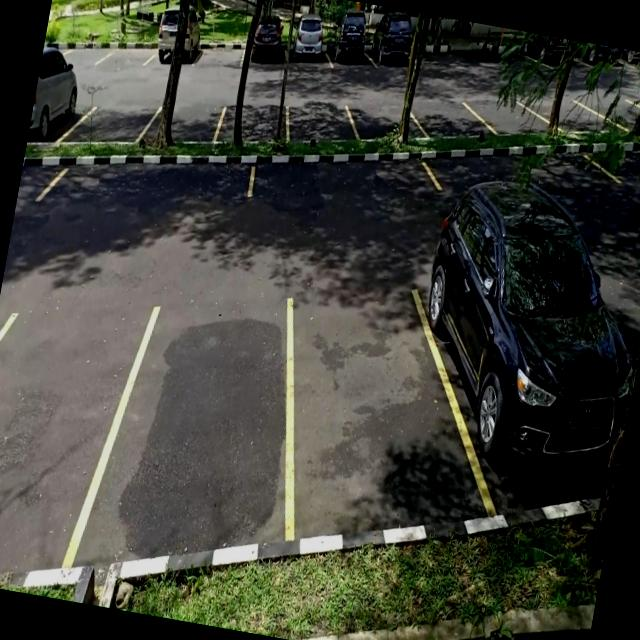car: (404, 254, 634, 522), (26, 56, 88, 150), (146, 23, 204, 74), (327, 26, 371, 74)
free: (90, 299, 298, 578), (266, 263, 452, 549), (0, 311, 131, 575), (41, 140, 254, 242), (247, 143, 436, 230), (73, 91, 157, 151), (147, 92, 225, 148), (216, 94, 291, 150), (284, 98, 358, 153), (416, 94, 486, 144), (349, 98, 418, 148), (98, 32, 152, 74), (194, 34, 247, 74)
